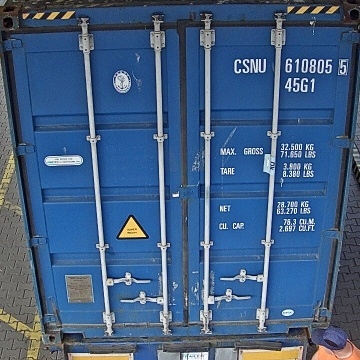serial_id: (234, 58, 348, 74)
